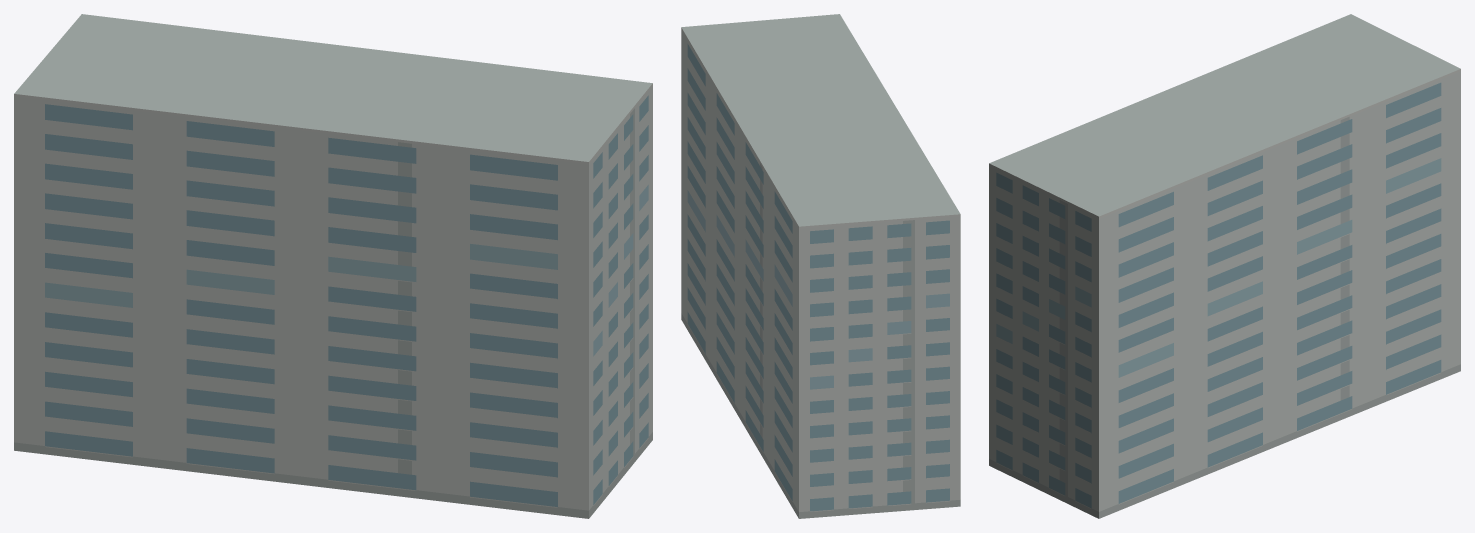
File: residential-78d158dd-a139-4f71-a579-662101e7be65.glb
3 renders of one model, left to right at view 1: azimuth 30°, elevation 25°; view 2: azimuth 150°, elevation 25°; view 3: azimuth 270°, elevation 25°, orthographic. The views are drawn at different scales.
Parts seen in each view (by area): view 1: residential-78d158dd-a139-4f71-a579-662101e7be65.tmp; view 2: residential-78d158dd-a139-4f71-a579-662101e7be65.tmp; view 3: residential-78d158dd-a139-4f71-a579-662101e7be65.tmp.
Boxes of the visible parts, left/top/right/bottom form: residential-78d158dd-a139-4f71-a579-662101e7be65.tmp: left=14, top=14, right=652, bottom=518; residential-78d158dd-a139-4f71-a579-662101e7be65.tmp: left=681, top=14, right=960, bottom=518; residential-78d158dd-a139-4f71-a579-662101e7be65.tmp: left=989, top=14, right=1460, bottom=518.
Size of the model in its own units: 45.99 by 32 by 45.27.
